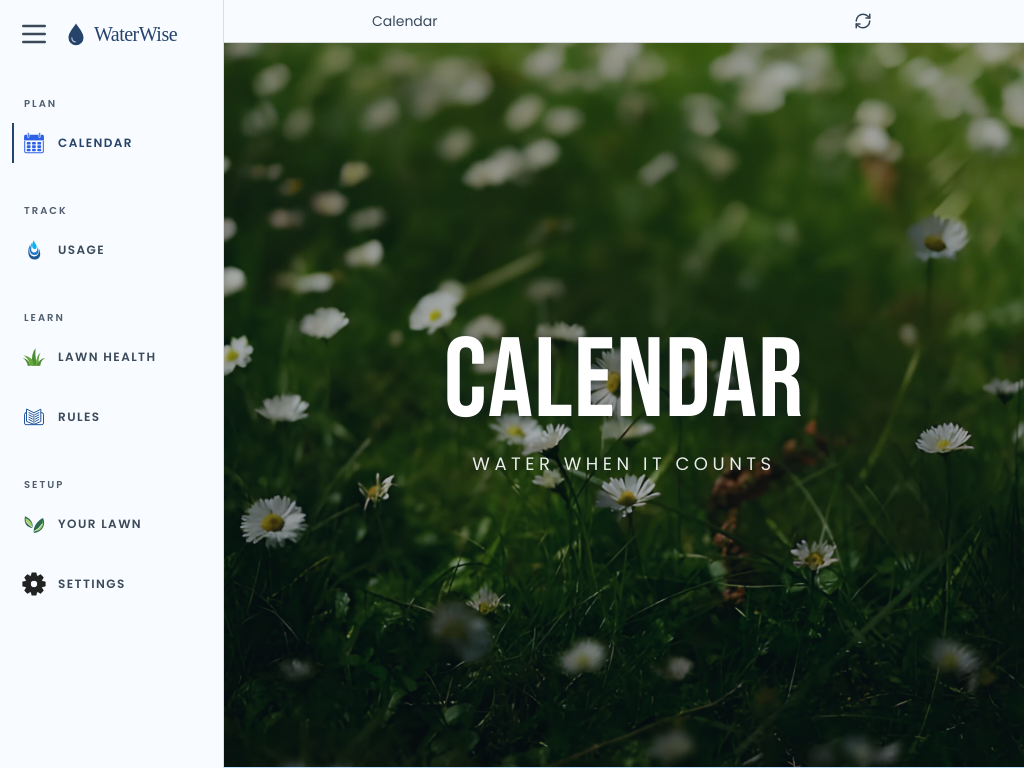
Scenario: Municipal Rules tab › works for a manual-coordinate location with no place names
Click the button "Rules" at x=112, y=417, box [12, 397, 211, 437]
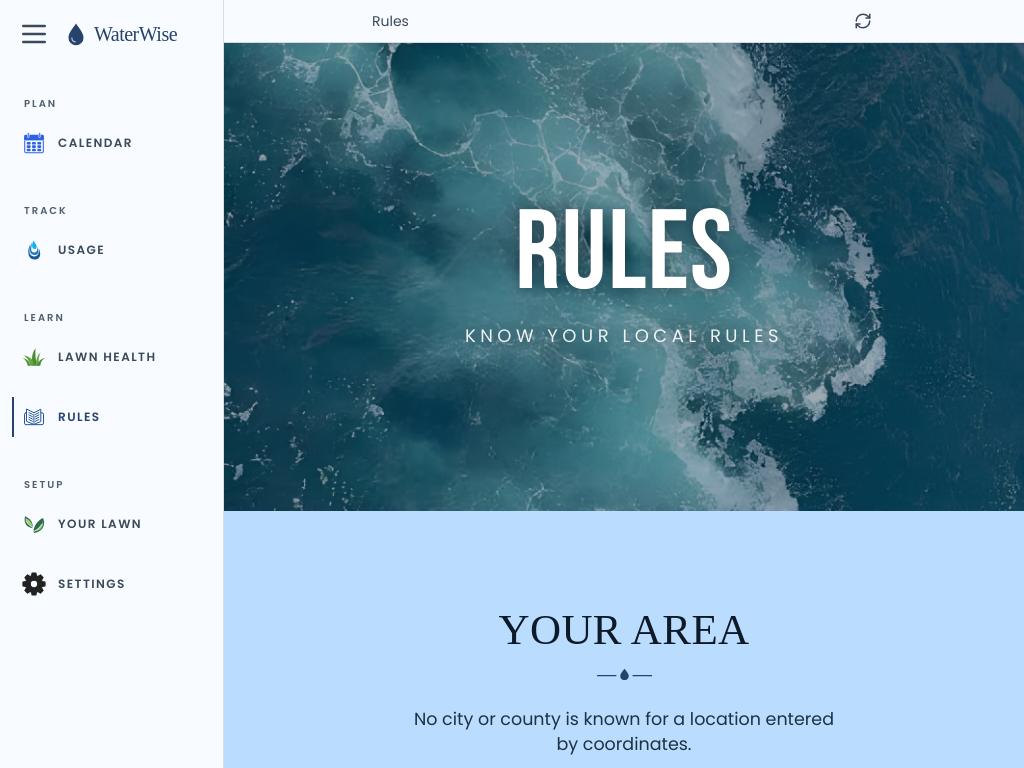
Expected: the text "No city or county is known" is shown, [414, 708, 834, 756]
